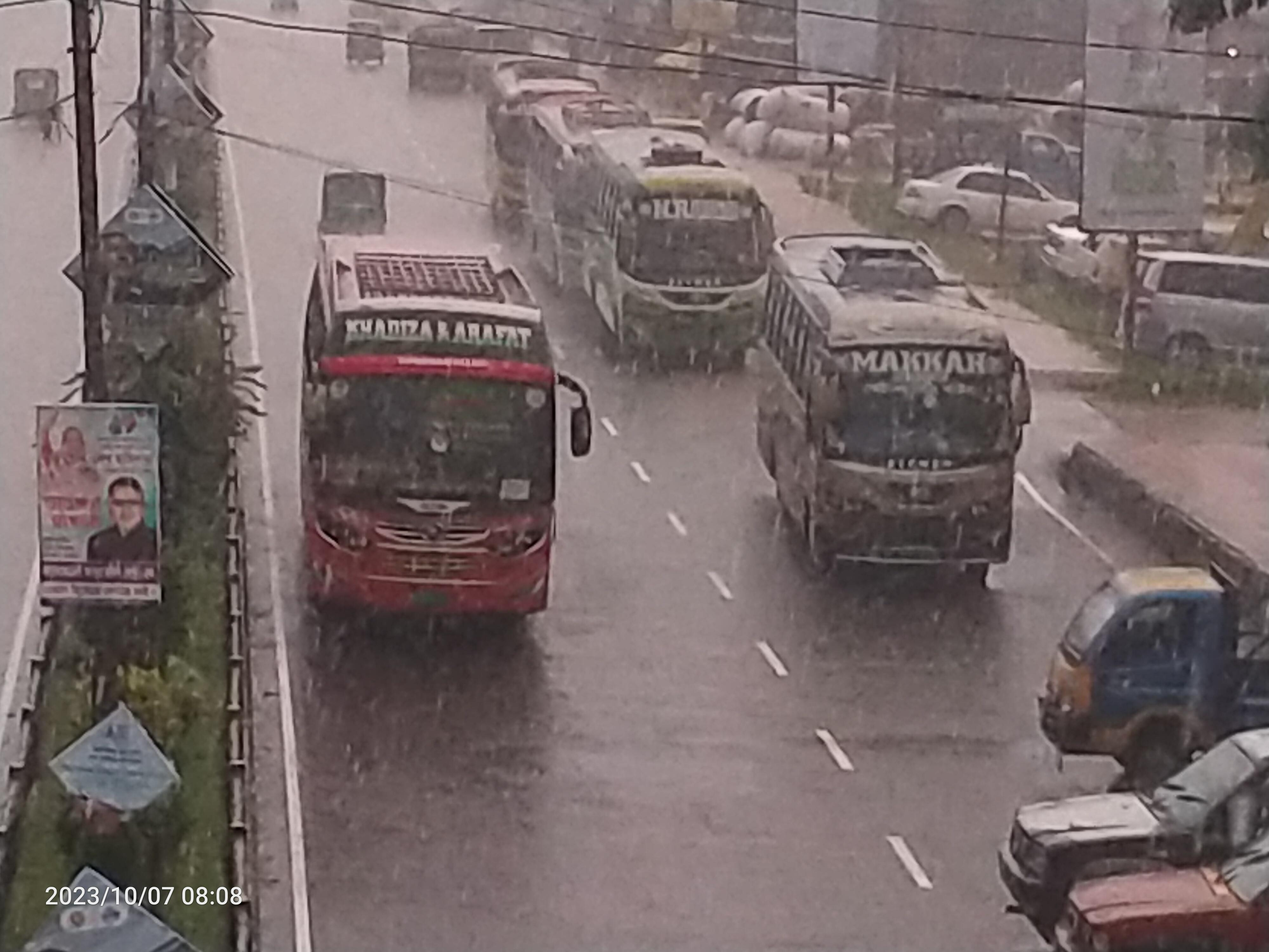Bus: (255, 198, 612, 677), (719, 211, 1036, 624), (568, 154, 773, 399), (510, 93, 601, 297), (468, 50, 529, 226)
Car: (1109, 232, 1269, 387), (878, 143, 1094, 240), (1045, 195, 1153, 297)
Truck: (1017, 532, 1269, 779), (993, 704, 1269, 890), (1035, 837, 1269, 952)
